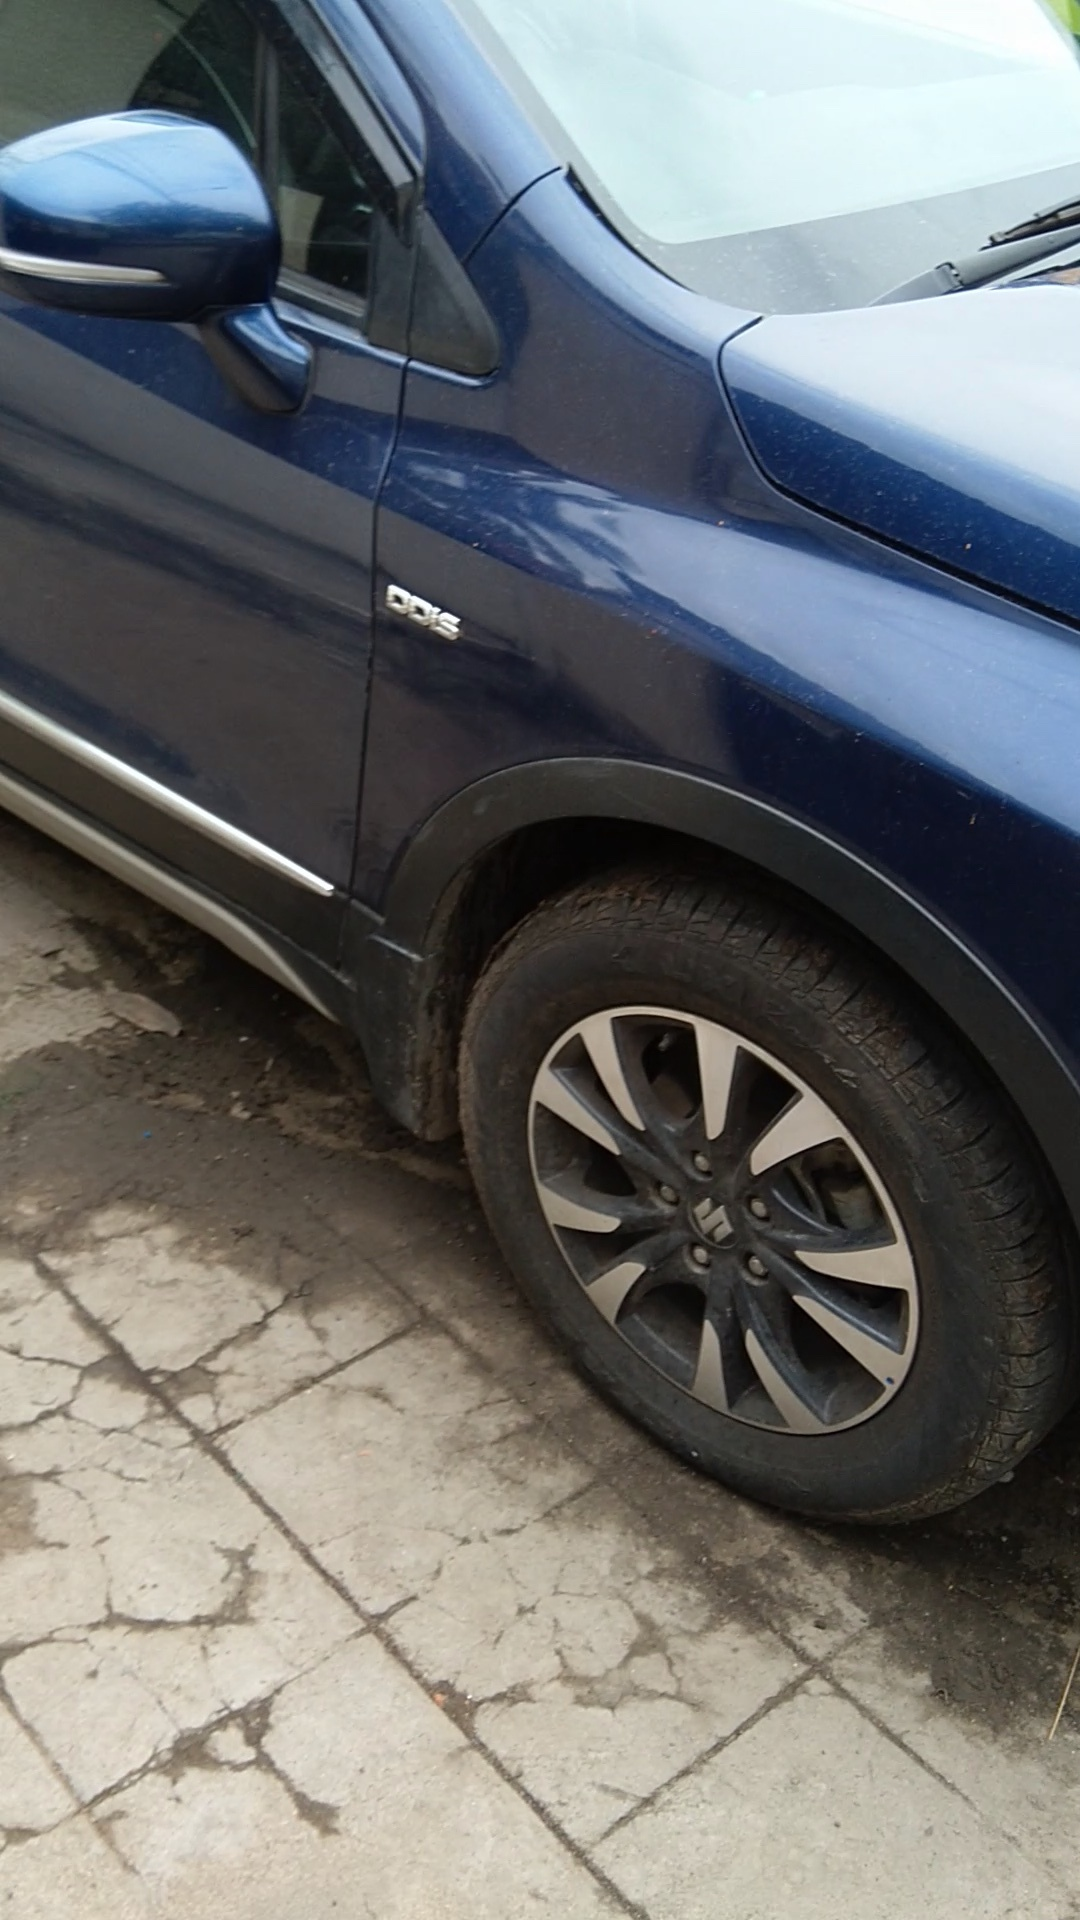alloy_wheel: (476, 862, 1044, 1597)
ovr_mirror: (1, 90, 326, 436)
